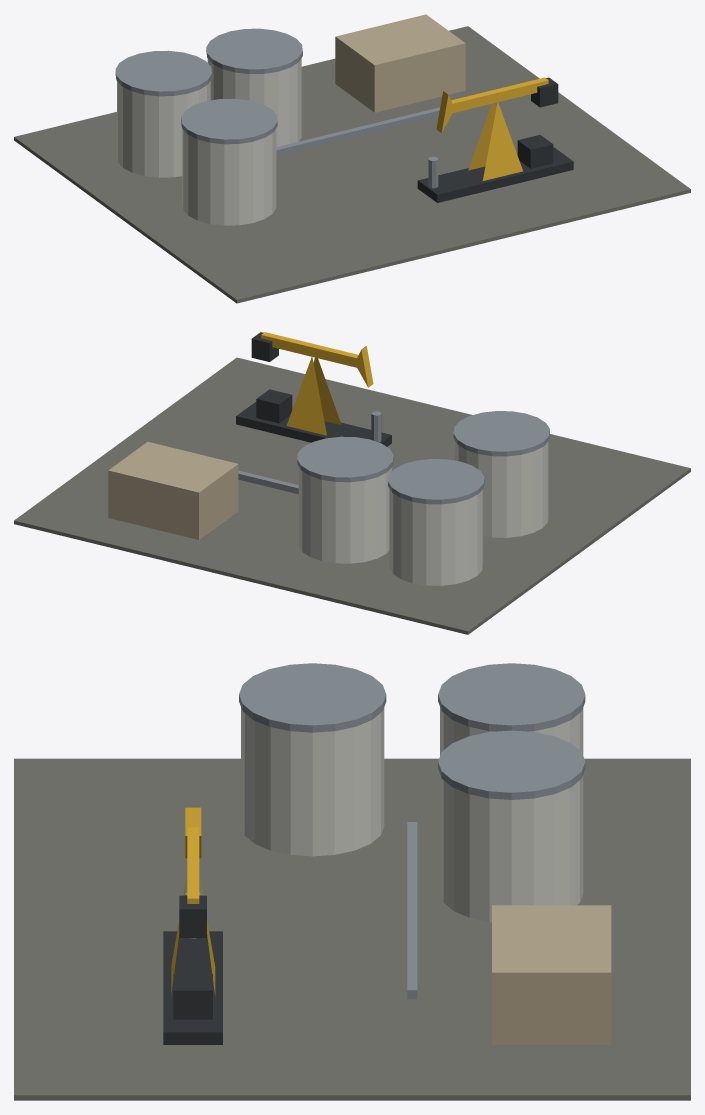
The model's file is mine.glb.
3 renders of one model, top to bottom at view 1: azimuth 30°, elevation 25°; view 2: azimuth 150°, elevation 25°; view 3: azimuth 270°, elevation 25°, orthographic. The views are drawn at different scales.
Parts seen in each view (by area): view 1: mine, Beam; view 2: mine, Beam; view 3: mine, Beam.
Part boxes in pixels (x1,y1,x2,y2): mine: (14, 14, 690, 303); Beam: (436, 77, 558, 132); mine: (14, 356, 690, 634); Beam: (251, 332, 373, 387); mine: (14, 663, 690, 1100); Beam: (179, 807, 206, 937).
Bounding box in the file's own units: 40 × 8.6 × 34.
